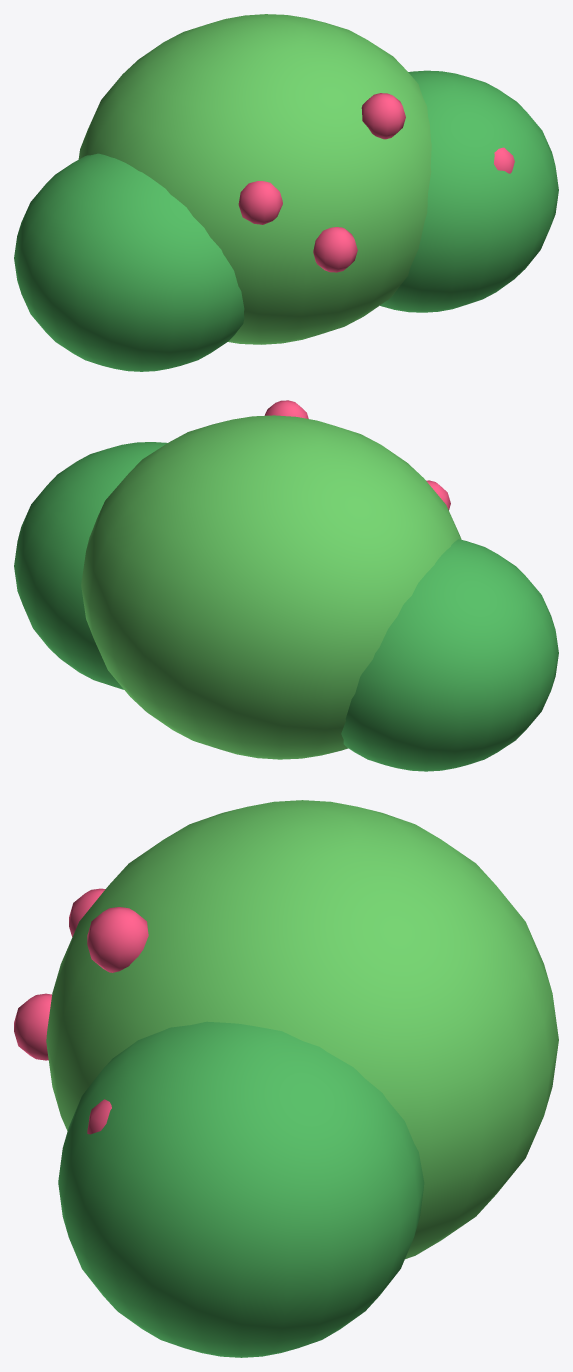
File: Bush.obj
3 renders of one model, top to bottom at view 1: azimuth 30°, elevation 25°; view 2: azimuth 150°, elevation 25°; view 3: azimuth 270°, elevation 25°, orthographic. The views are drawn at different scales.
Parts seen in each view (by area): view 1: Bush; view 2: Bush; view 3: Bush.
Part boxes in pixels (<box>): Bush: <box>14,14,558,371</box>; Bush: <box>14,400,558,771</box>; Bush: <box>14,800,558,1357</box>.
Bounding box in the file's own units: 1.36 × 0.76 × 0.8923.
Materials: 1 (1 with a texture image).
